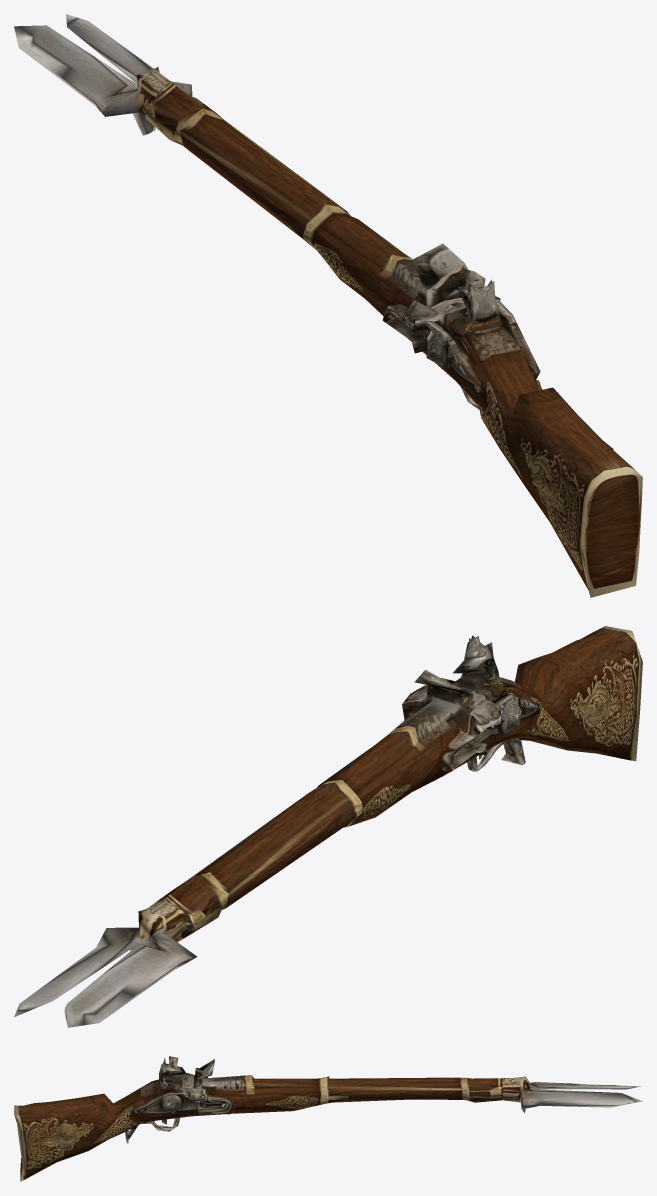
File: infantry_mix_musket.fbx
3 views of the same model, one above another, from view 1: azimuth 30°, elevation 25°; view 2: azimuth 150°, elevation 25°; view 3: azimuth 270°, elevation 25° (orthographic). The views are drawn at different scales.
Parts seen in each view (by area): view 1: tripo_node_3e49be76-a25e-4734-b83d-5a6473e50fec; view 2: tripo_node_3e49be76-a25e-4734-b83d-5a6473e50fec; view 3: tripo_node_3e49be76-a25e-4734-b83d-5a6473e50fec.
Boxes of the visible parts, box(x1,y1,x2,y2) form: tripo_node_3e49be76-a25e-4734-b83d-5a6473e50fec: box(14, 14, 642, 597); tripo_node_3e49be76-a25e-4734-b83d-5a6473e50fec: box(14, 626, 642, 1027); tripo_node_3e49be76-a25e-4734-b83d-5a6473e50fec: box(14, 1056, 642, 1181).
Size of the model in its own units: 9.02 by 20.78 by 98.79.
Materials: 1 (1 with a texture image).
